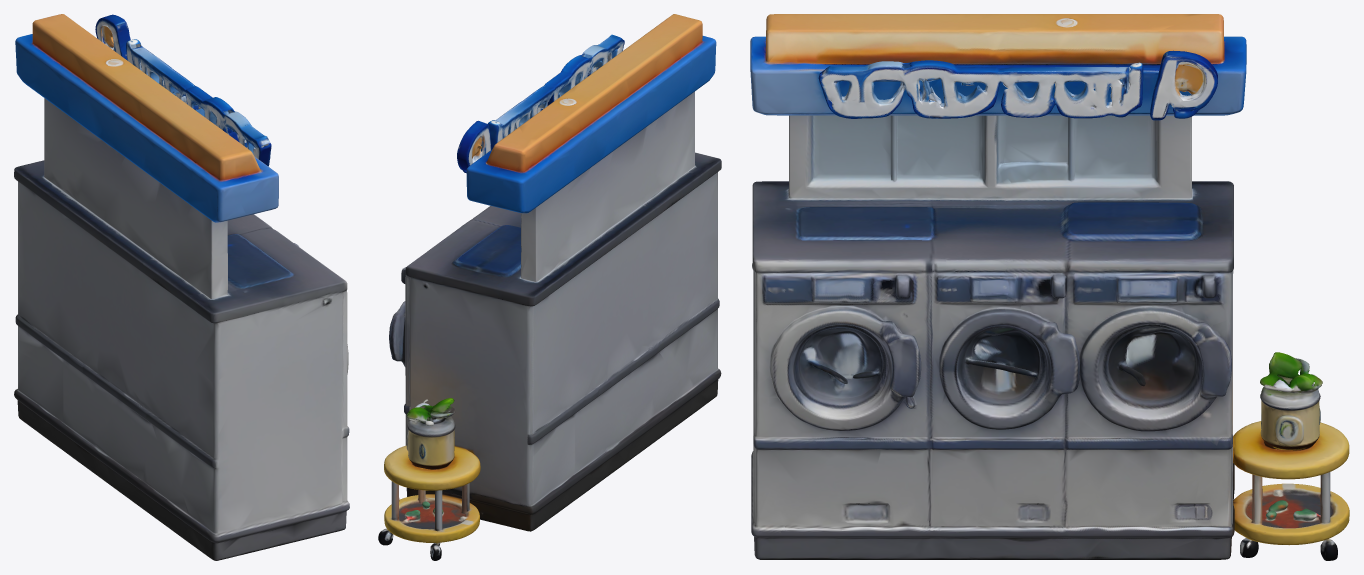
The model's file is building-laundromat.glb.
3 views of the same model, side by side, from view 1: azimuth 30°, elevation 25°; view 2: azimuth 150°, elevation 25°; view 3: azimuth 270°, elevation 25° (orthographic). The views are drawn at different scales.
Visible parts, largest first — view 1: tripo_node_de2c8a7e-51b2-4e16-aabd-76a88b541719; view 2: tripo_node_de2c8a7e-51b2-4e16-aabd-76a88b541719; view 3: tripo_node_de2c8a7e-51b2-4e16-aabd-76a88b541719.
Part boxes in pixels (box(x1,y1,x2,y2)): tripo_node_de2c8a7e-51b2-4e16-aabd-76a88b541719: box(14, 14, 349, 560); tripo_node_de2c8a7e-51b2-4e16-aabd-76a88b541719: box(378, 14, 721, 560); tripo_node_de2c8a7e-51b2-4e16-aabd-76a88b541719: box(750, 14, 1349, 560).
Size of the model in its own units: 1.97 by 5 by 5.55.
1 material, 1 textured.
